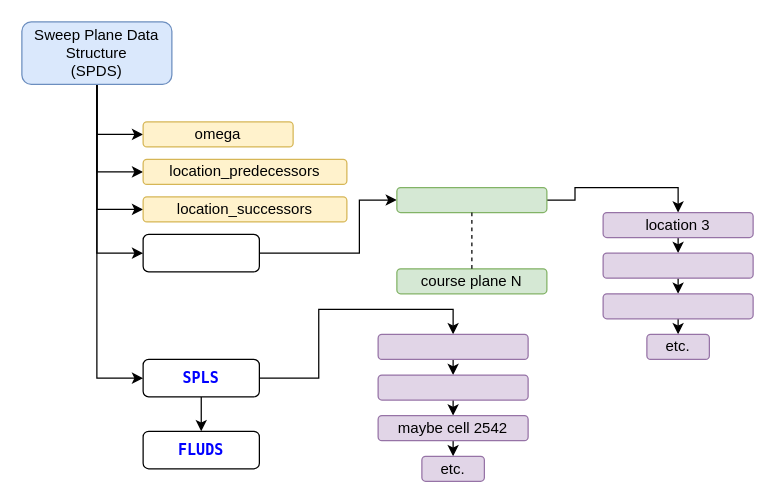
Some shapes in this 775 by 504 pixel diagram are drawn without their labels. The box of each missing label's shape, as (x1, y1, x2, y2) in pixels:
cell 2543: (377, 333, 528, 359)
course plane 1: (396, 186, 547, 212)
GSPO: (142, 233, 259, 272)
maybe cell 7673: (377, 374, 528, 400)
maybe location 1: (602, 292, 753, 319)
maybe location 7: (602, 252, 753, 278)
